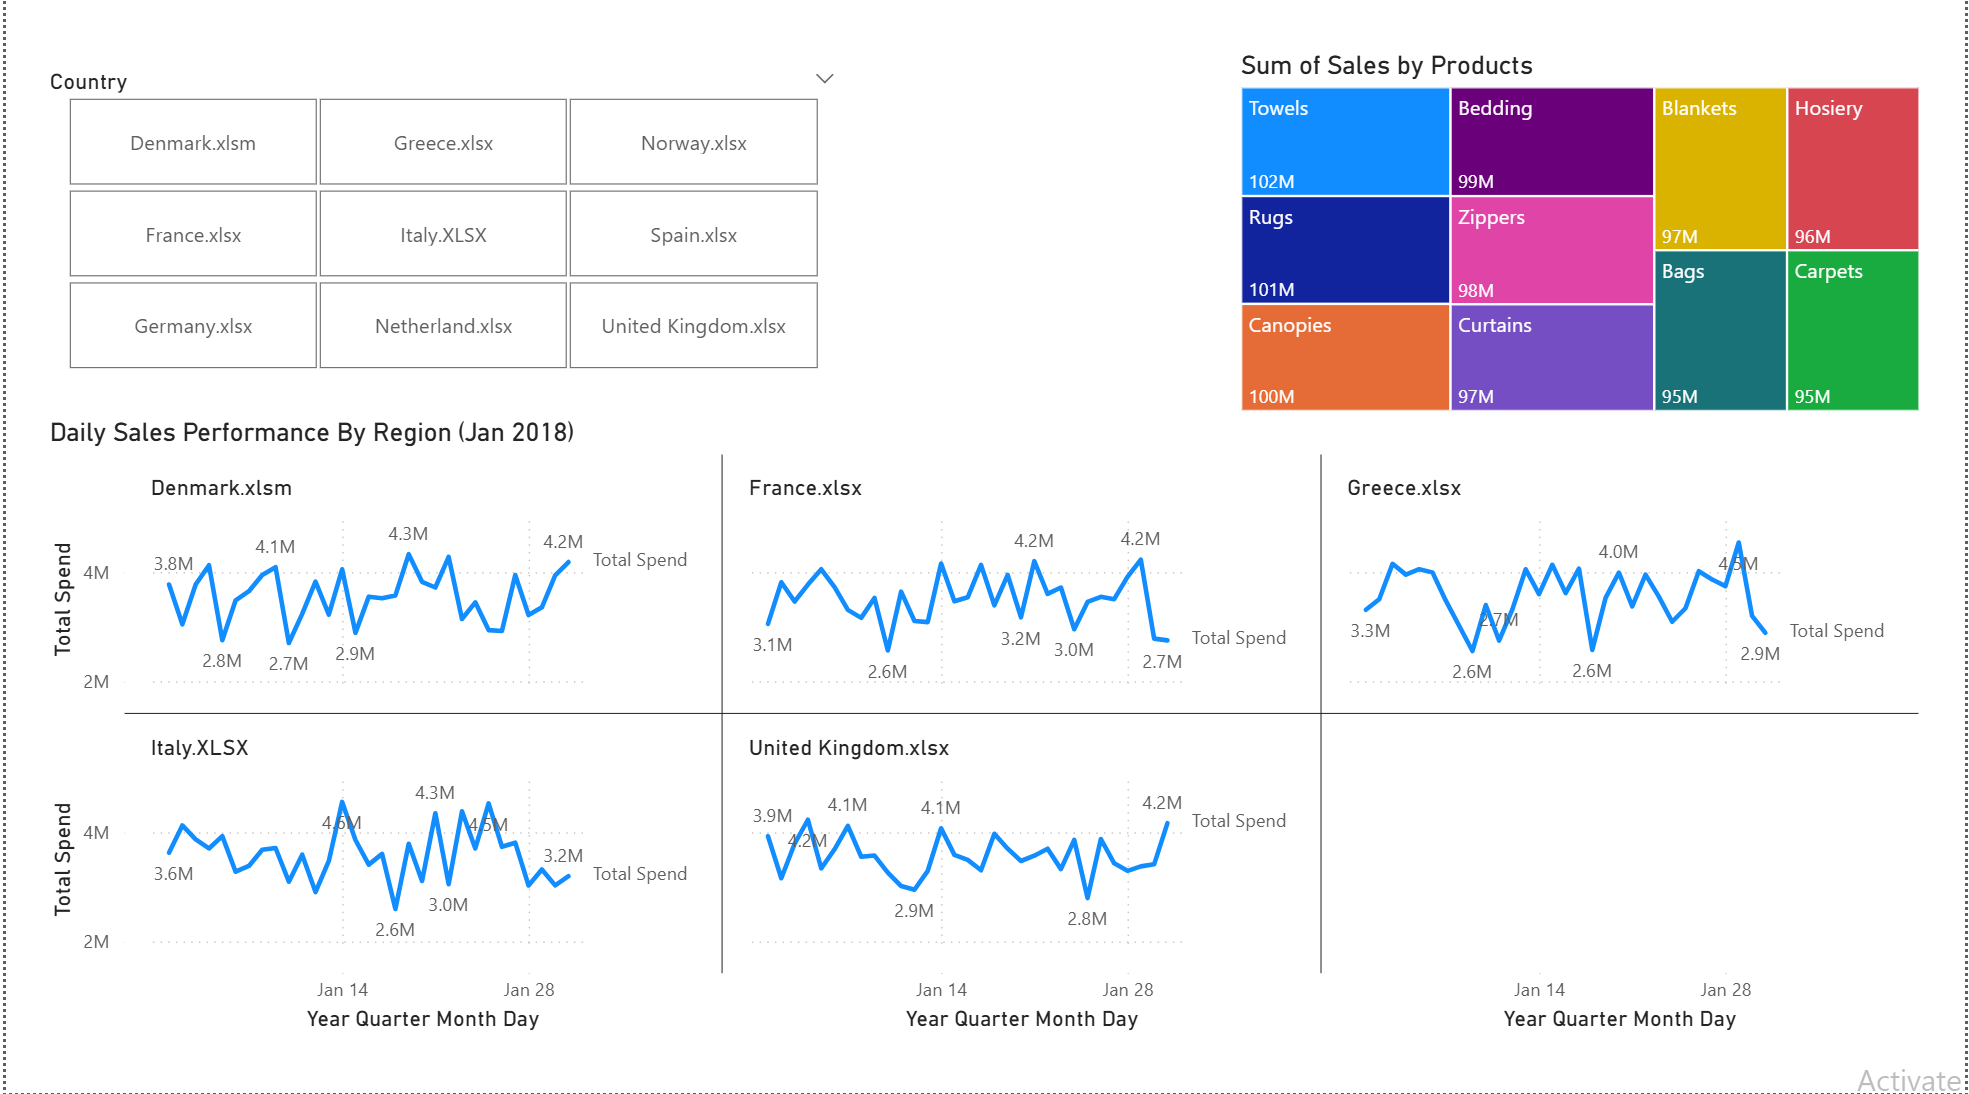

This screenshot's page, from the dashboard's own definition file:
{"tool":"powerbi","page":{"name":"Sales Overview","canvas":[1280,720],"ordinal":4},"visuals":[{"type":"treemap","fields":{"Group":["Transactions.Products"],"Values":["Sum(Transactions.Sales)"]},"box":[801.3,37.9,453.2,240.8],"z":0},{"type":"lineChart","title":"Daily Sales Performance By Region (Jan 2018)","fields":{"Y":["Transactions.Total Spend"],"Rows":["Transactions.Country"],"Category":["Transactions.Date.Variation.Date Hierarchy.Year","Transactions.Date.Variation.Date Hierarchy.Quarter","Transactions.Date.Variation.Date Hierarchy.Month","Transactions.Date.Variation.Date Hierarchy.Day"]},"box":[23.1,278.7,1231.5,407],"z":1000},{"type":"slicer","fields":{"Values":["Transactions.Country"]},"box":[15.8,45.2,538.4,208.2],"z":2000}]}

Visuals, with their boxes in screenshot pixels (x1, y1, x2, y2), scaled from the page's 1280x720 canvas onto the 1969x1094 screenshot:
treemap - Transactions.Products x Sum(Transactions.Sales): 1233 58 1930 423
"Daily Sales Performance By Region (Jan 2018)" lineChart: 36 423 1930 1042
slicer - Transactions.Country: 24 69 853 385
